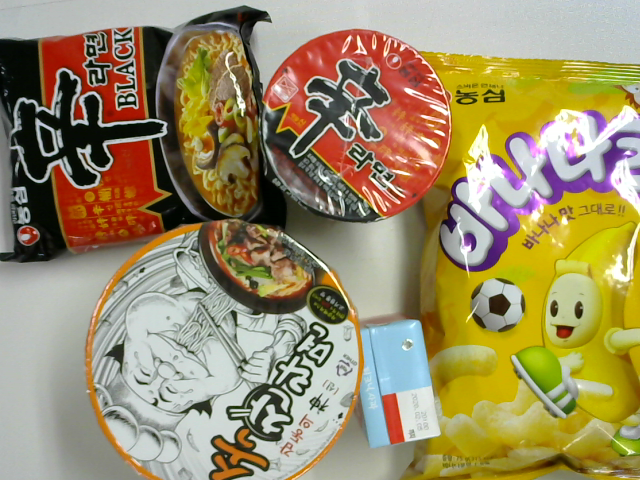Banana_Kick: (417, 44, 635, 480)
Hejangchan: (93, 224, 363, 480)
Picnic_Apple: (357, 320, 443, 456)
Sinramen_Black: (3, 10, 269, 270)
Sinramen_small: (257, 26, 447, 226)
